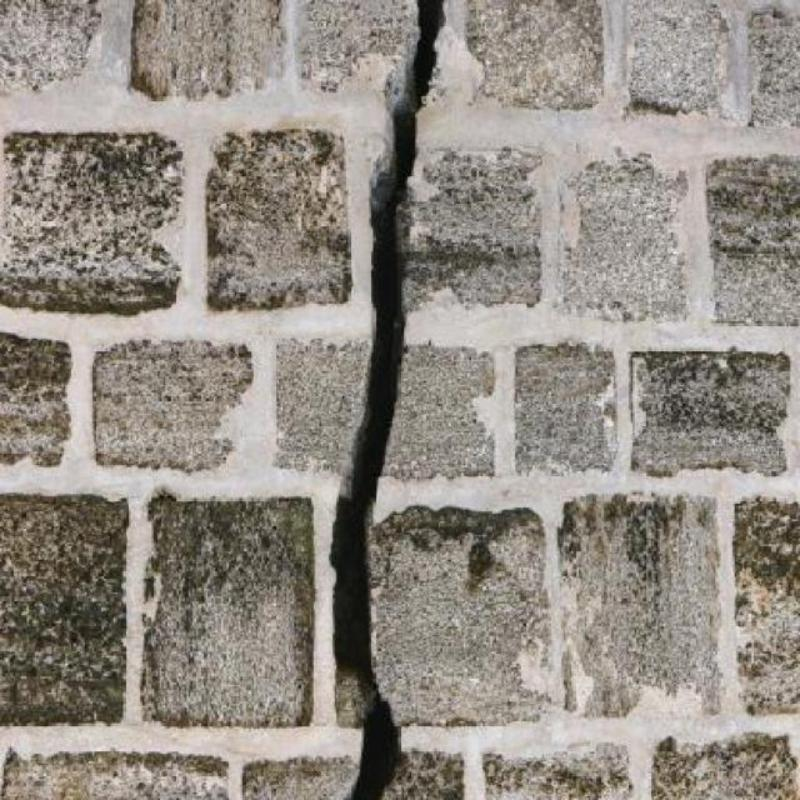pothole: (333, 0, 443, 799)
